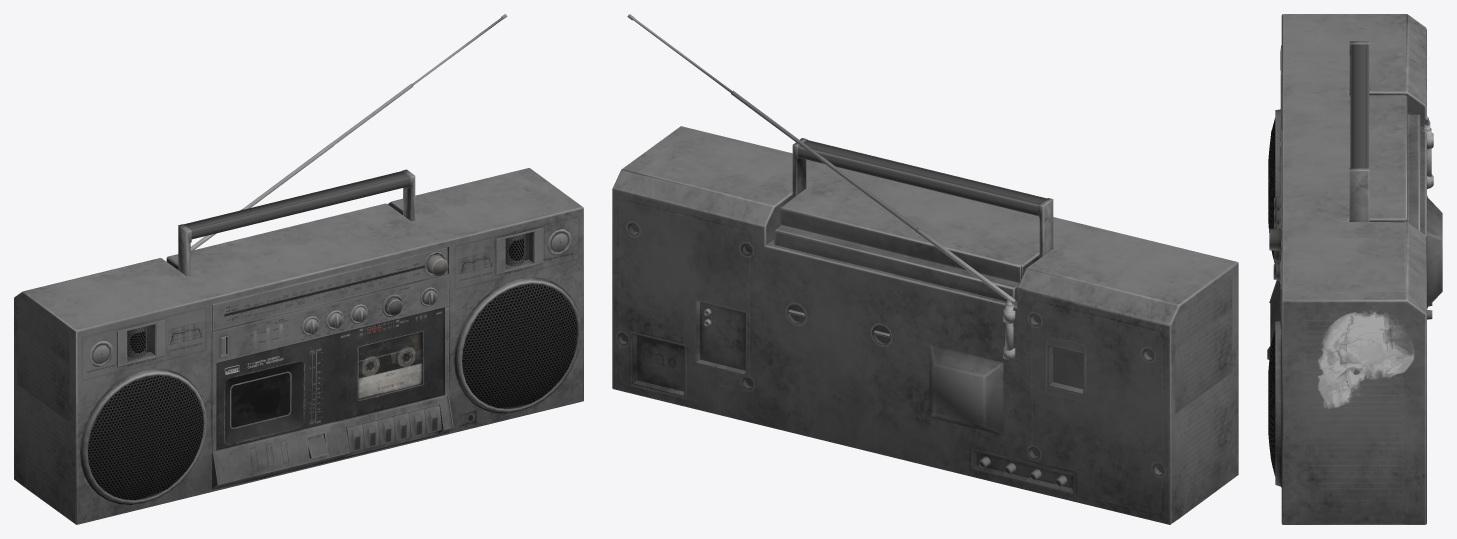
The model's file is boombox.glb.
The picture shows the model from 3 angles, left to right: view 1: azimuth 30°, elevation 25°; view 2: azimuth 150°, elevation 25°; view 3: azimuth 270°, elevation 25°; orthographic projection. The views are drawn at different scales.
Parts seen in each view (by area): view 1: boombox; view 2: boombox; view 3: boombox.
Part boxes in pixels (bbox=[...]): boombox: bbox=[14, 14, 583, 524]; boombox: bbox=[612, 14, 1238, 524]; boombox: bbox=[1267, 14, 1442, 524].
Bounding box in the file's own units: 0.7238 × 0.47 × 0.1865.
2 materials, 2 textured.
